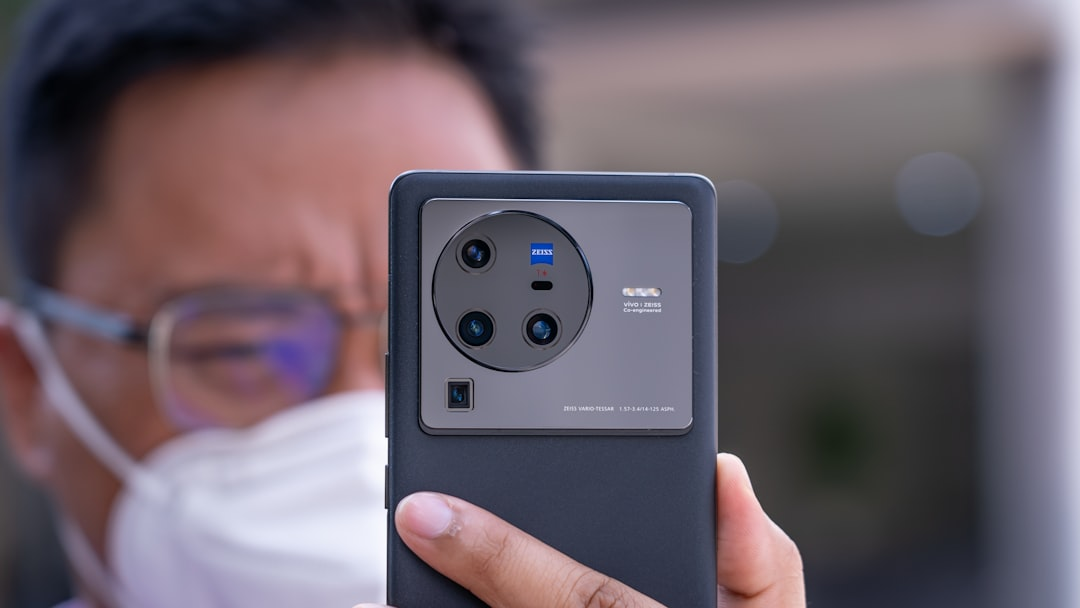phone: (384, 169, 719, 608)
